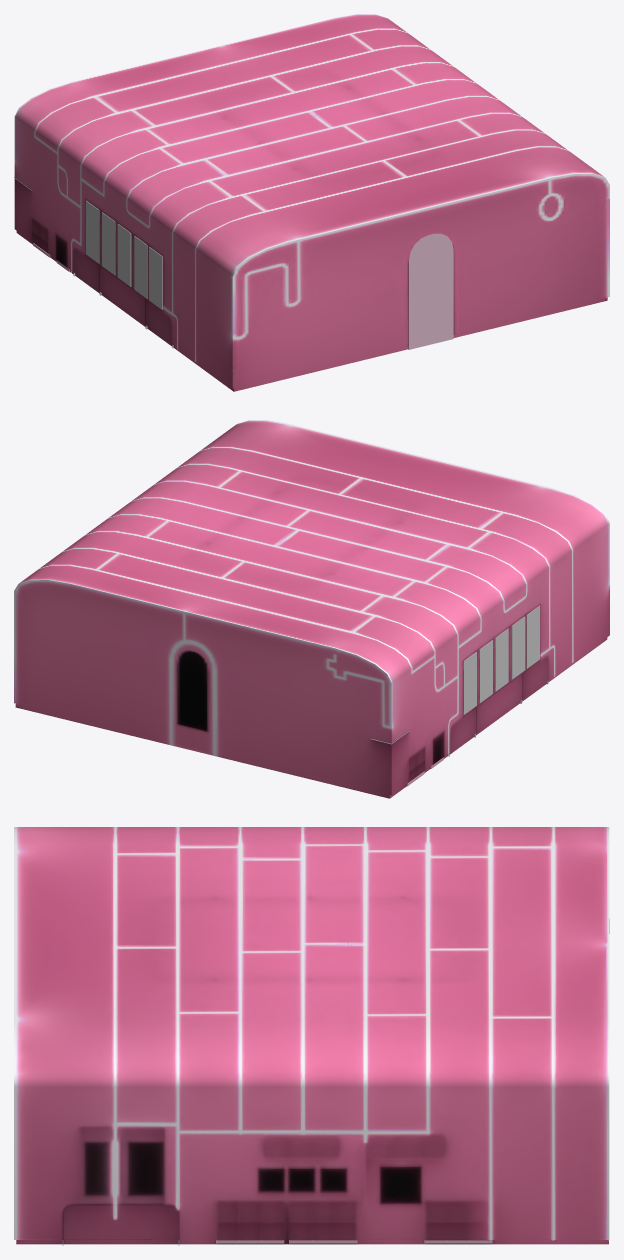
File: PinkRoom.glb
3 renders of one model, top to bottom at view 1: azimuth 30°, elevation 25°; view 2: azimuth 150°, elevation 25°; view 3: azimuth 270°, elevation 25°, orthographic. The views are drawn at different scales.
Parts seen in each view (by area): view 1: ma room back, polySurface9, photo fram; view 2: ma room back, photo fram; view 3: ma room back, pink wood.
Part boxes in pixels (x1,y1,x2,y2): ma room back: (14,14,609,391); polySurface9: (408,233,453,349); photo fram: (86,200,162,309); ma room back: (14,420,609,798); photo fram: (463,605,539,714); ma room back: (14,827,609,1244); pink wood: (216,1240,492,1243).
Bounding box in the file's own units: 0.2573 × 0.0938 × 0.2579.
Materials: 8 (2 with a texture image).
